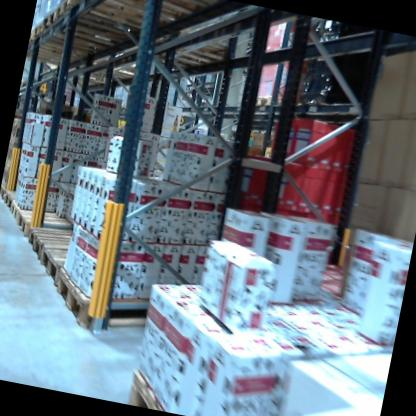pallet: (47, 258, 178, 348), (60, 0, 238, 57), (32, 239, 130, 306), (42, 0, 149, 59), (33, 14, 137, 62), (21, 222, 104, 278), (115, 0, 239, 23), (124, 367, 183, 414), (4, 197, 72, 236), (10, 206, 71, 248), (233, 85, 285, 115), (2, 188, 16, 210), (0, 182, 8, 205)
